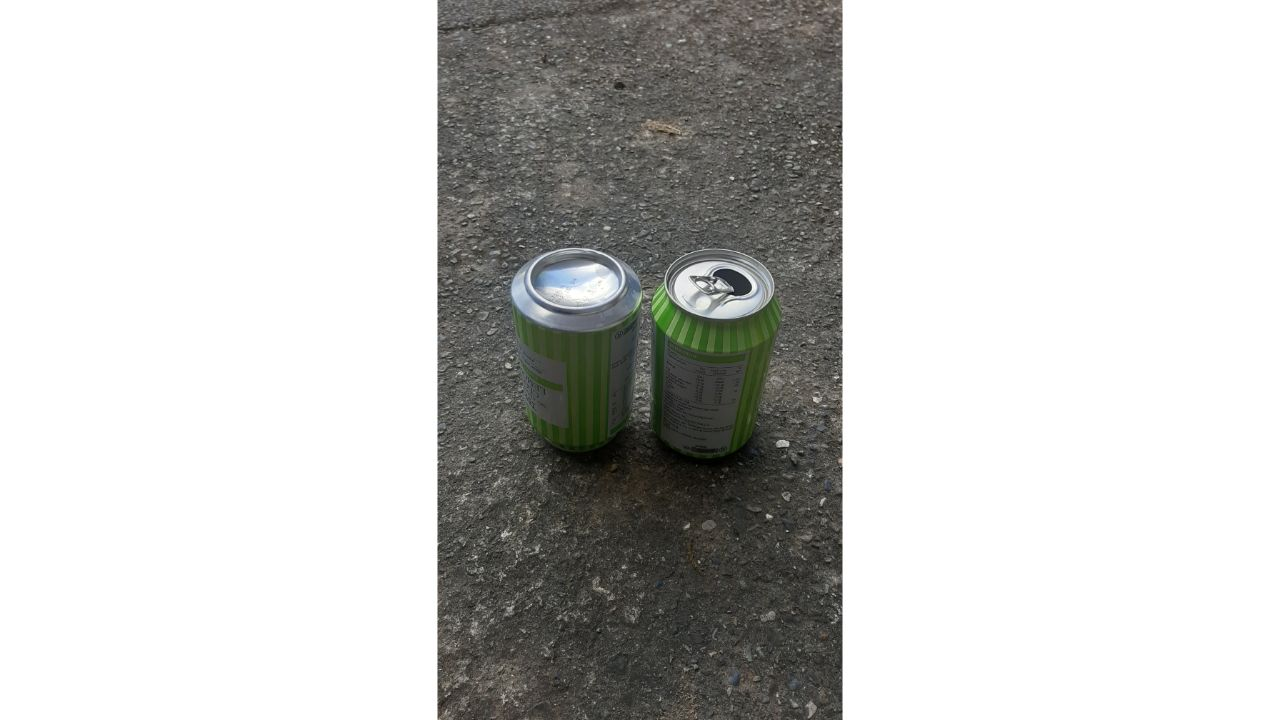Can: (644, 240, 790, 471), (505, 241, 651, 459)
